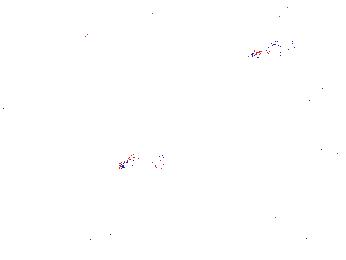X-ray fish: (80, 30, 100, 67)
glassfish: (104, 150, 174, 180)
red belly glassfish: (247, 41, 296, 62), (319, 81, 346, 100)
